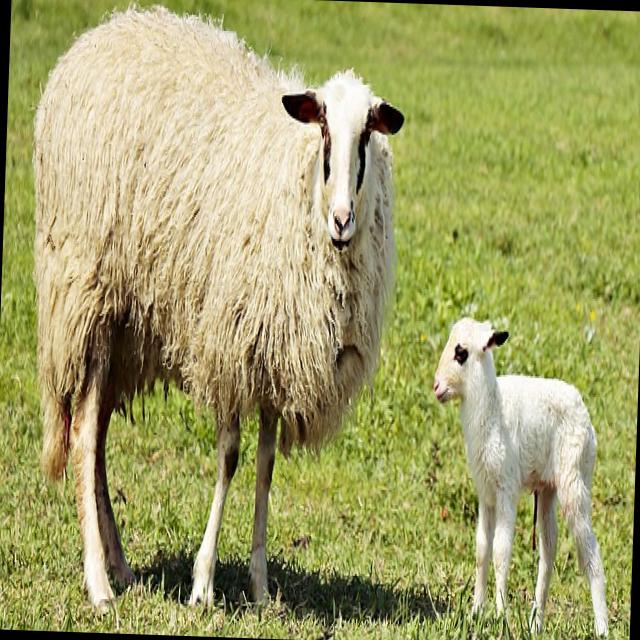animal: (15, 0, 408, 625), (424, 313, 620, 640)
